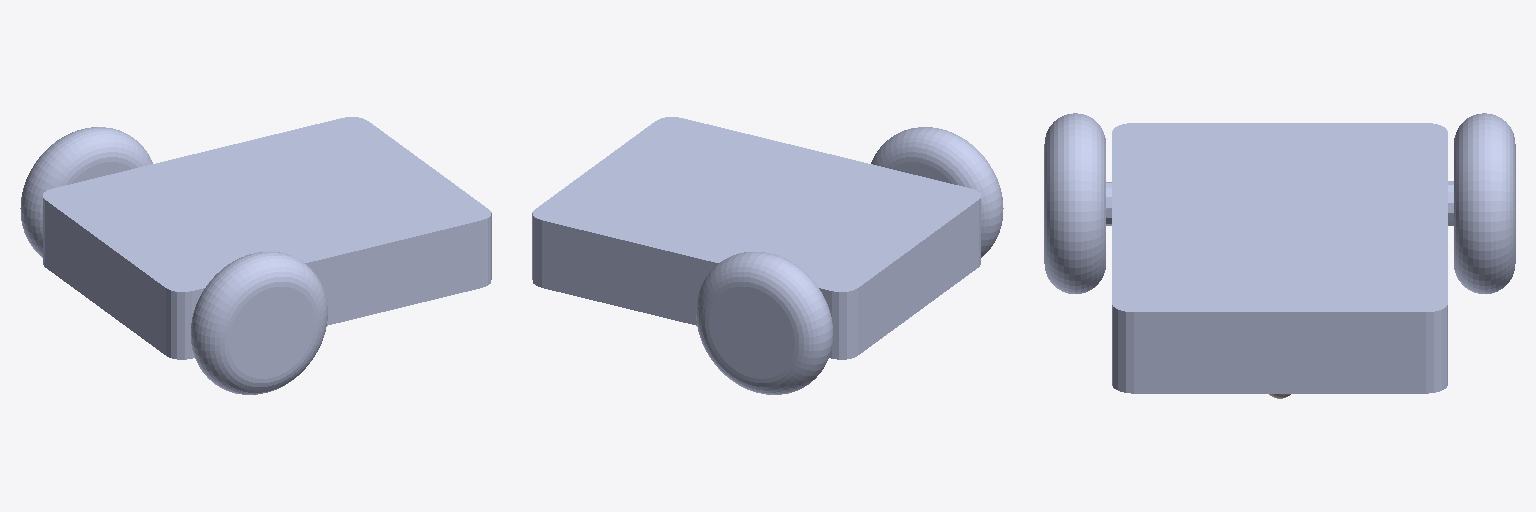
URDF robot description (my_first_robot):
<?xml version="1.0" encoding="utf-8"?>
<!-- This URDF was automatically created by SolidWorks to URDF Exporter! Originally created by [author] ([email redacted]) 
     Commit Version: 1.6.0-4-g7f85cfe  Build Version: 1.6.7995.38578
     For more information, please see http://wiki.ros.org/sw_urdf_exporter -->
<robot
  name="my_first_robot">
  <link
    name="base_link">
    <inertial>
      <origin
        xyz="-0.000907501920053661 0 -0.0199513599654158"
        rpy="0 0 0" />
      <mass
        value="1.2060107053621" />
      <inertia
        ixx="0.00249652543441958"
        ixy="-2.24983403104319E-19"
        ixz="-3.57285857288803E-06"
        iyy="0.004155330126658"
        iyz="-4.24579059909699E-20"
        izz="0.00633371253498906" />
    </inertial>
    <visual>
      <origin
        xyz="0 0 0"
        rpy="0 0 0" />
      <geometry>
        <mesh
          filename="package://my_first_robot/meshes/base_link.STL" />
      </geometry>
      <material
        name="">
        <color
          rgba="0.792156862745098 0.819607843137255 0.933333333333333 1" />
      </material>
    </visual>
    <collision>
      <origin
        xyz="0 0 0"
        rpy="0 0 0" />
      <geometry>
        <mesh
          filename="package://my_first_robot/meshes/base_link.STL" />
      </geometry>
    </collision>
  </link>
  <link
    name="link_RB">
    <inertial>
      <origin
        xyz="0 0.19645 0"
        rpy="0 0 0" />
      <mass
        value="0.11569" />
      <inertia
        ixx="5.0261E-05"
        ixy="4.5354E-23"
        ixz="7.0077E-39"
        iyy="8.7869E-05"
        iyz="-4.9454E-38"
        izz="5.0261E-05" />
    </inertial>
    <visual>
      <origin
        xyz="0 0 0"
        rpy="0 0 0" />
      <geometry>
        <mesh
          filename="package://my_first_robot/meshes/link_RB.STL" />
      </geometry>
      <material
        name="">
        <color
          rgba="0.79216 0.81961 0.93333 1" />
      </material>
    </visual>
    <collision>
      <origin
        xyz="0 0 0"
        rpy="0 0 0" />
      <geometry>
        <mesh
          filename="package://my_first_robot/meshes/link_RB.STL" />
      </geometry>
    </collision>
  </link>
  <joint
    name="joint_RB"
    type="continuous">
    <origin
      xyz="-0.0575 -0.105 -0.02"
      rpy="0 0 0" />
    <parent
      link="base_link" />
    <child
      link="link_RB" />
    <axis
      xyz="0 1 0" />
  </joint>
  <link
    name="link_LB">
    <inertial>
      <origin
        xyz="0 -0.19645 2.7756E-17"
        rpy="0 0 0" />
      <mass
        value="0.11569" />
      <inertia
        ixx="5.0261E-05"
        ixy="-6.127E-22"
        ixz="-1.1535E-36"
        iyy="8.7869E-05"
        iyz="7.8716E-38"
        izz="5.0261E-05" />
    </inertial>
    <visual>
      <origin
        xyz="0 0 0"
        rpy="0 0 0" />
      <geometry>
        <mesh
          filename="package://my_first_robot/meshes/link_LB.STL" />
      </geometry>
      <material
        name="">
        <color
          rgba="0.79216 0.81961 0.93333 1" />
      </material>
    </visual>
    <collision>
      <origin
        xyz="0 0 0"
        rpy="0 0 0" />
      <geometry>
        <mesh
          filename="package://my_first_robot/meshes/link_LB.STL" />
      </geometry>
    </collision>
  </link>
  <joint
    name="joint_LB"
    type="continuous">
    <origin
      xyz="-0.0575 0.105 -0.02"
      rpy="0 0 0" />
    <parent
      link="base_link" />
    <child
      link="link_LB" />
    <axis
      xyz="0 1 0" />
  </joint>
  <link
    name="link_F">
    <inertial>
      <origin
        xyz="-6.9389E-18 0 2.7756E-17"
        rpy="0 0 0" />
      <mass
        value="0.0017671" />
      <inertia
        ixx="3.9761E-08"
        ixy="-1.3528E-52"
        ixz="3.5265E-38"
        iyy="3.9761E-08"
        iyz="-1.653E-38"
        izz="3.9761E-08" />
    </inertial>
    <visual>
      <origin
        xyz="0 0 0"
        rpy="0 0 0" />
      <geometry>
        <mesh
          filename="package://my_first_robot/meshes/link_F.STL" />
      </geometry>
      <material
        name="">
        <color
          rgba="0.78039 0.76078 0.74118 1" />
      </material>
    </visual>
    <collision>
      <origin
        xyz="0 0 0"
        rpy="0 0 0" />
      <geometry>
        <mesh
          filename="package://my_first_robot/meshes/link_F.STL" />
      </geometry>
    </collision>
  </link>
  <joint
    name="joint_F"
    type="continuous">
    <origin
      xyz="0.059866 0 -0.0529"
      rpy="0 0 0" />
    <parent
      link="base_link" />
    <child
      link="link_F" />
    <axis
      xyz="0 1 0" />
  </joint>

  <gazebo>
    <plugin name="diff_drive_controller" filename="libgazebo_ros_diff_drive.so">
      <ros>
        <namespace>/</namespace>
      </ros>
      <commandTopic>cmd_vel</commandTopic>
      <odometryTopic>odom</odometryTopic>
      <odometryFrame>odom</odometryFrame>
      <odometrySource>1</odometrySource>
      <robotBaseFrame>base_link</robotBaseFrame>
      <leftJoint>joint_LB</leftJoint>
      <rightJoint>joint_RB</rightJoint>
      <!-- Adjust these parameters to match your robot’s dimensions -->
      <wheelSeparation>0.21</wheelSeparation>
      <wheelDiameter>0.15</wheelDiameter>
      <wheelAcceleration>1.0</wheelAcceleration>
      <wheelTorque>20</wheelTorque>
      <torque>5</torque>
      <updateRate>100.0</updateRate>
      <publishWheelJointState>true</publishWheelJointState>
      <legacyMode>false</legacyMode>
      <publishWheelTF>true</publishWheelTF>
      <publishOdom>true</publishOdom>
    </plugin>

  </gazebo>

</robot>

--- What the picture shows (computed from the rendered views, not written in the file) ---
3 views of the same robot in one strip: view 1: azimuth 30°, elevation 25°; view 2: azimuth 150°, elevation 25°; view 3: azimuth 270°, elevation 25° (orthographic).
Model my_first_robot with 4 links and 3 joints (3 continuous), rooted at base_link, posed every joint at zero.
Visible links, largest first — view 1: base_link, link_LB, link_RB; view 2: base_link, link_RB, link_LB; view 3: base_link, link_RB, link_LB.
Link boxes in pixels (bbox=[...]): base_link: bbox=[43, 117, 491, 359]; link_LB: bbox=[191, 252, 327, 394]; link_RB: bbox=[20, 127, 152, 257]; base_link: bbox=[532, 117, 980, 359]; link_RB: bbox=[696, 252, 832, 394]; link_LB: bbox=[871, 127, 1003, 257]; base_link: bbox=[1106, 123, 1453, 393]; link_RB: bbox=[1454, 113, 1515, 293]; link_LB: bbox=[1044, 113, 1105, 293].
Size in the robot's own frame: 0.2 by 0.21 by 0.0807 metres.
Meshes: 4 distinct files referenced, 4 mesh visuals loaded (4 binary STL).
